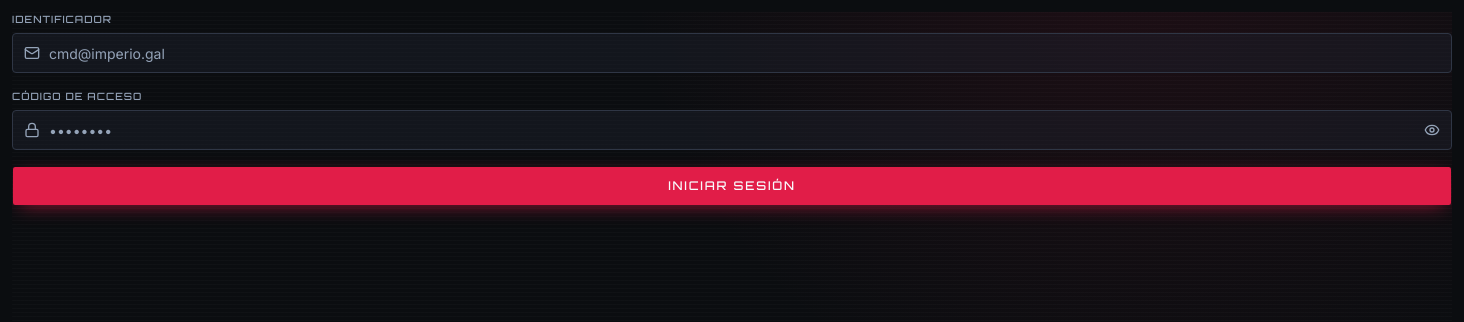
Scenario: LoginForm › muestra error de password requerido
Type "test@test.com" into the field labelled "Identificador" at (732, 53), box left=12, top=33, right=1452, bottom=73
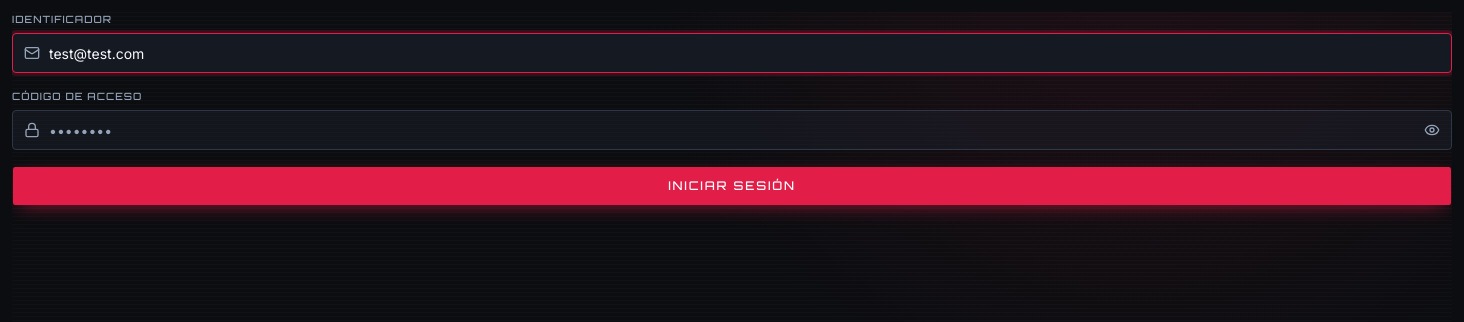
Click the button "Iniciar Sesión" at (732, 186), box left=12, top=166, right=1452, bottom=206
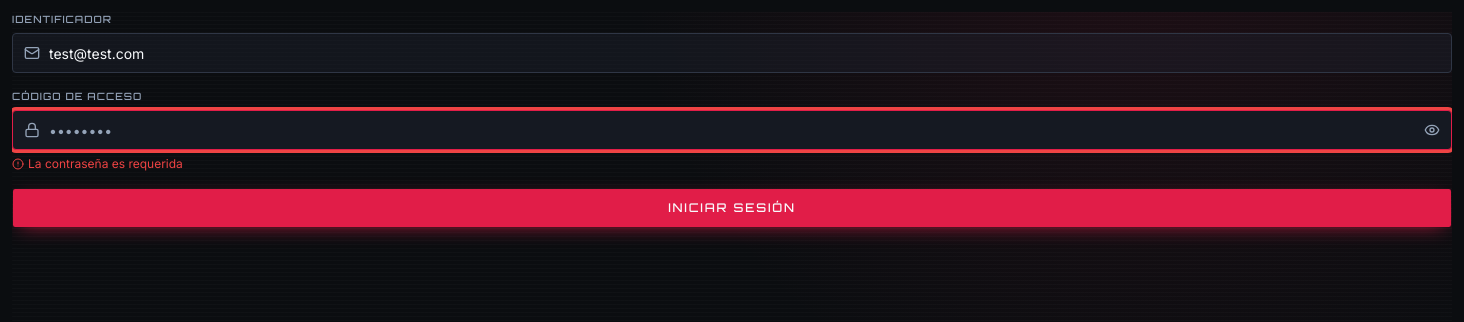
Now the text "La contraseña es requerida" is shown, box left=12, top=156, right=183, bottom=171
